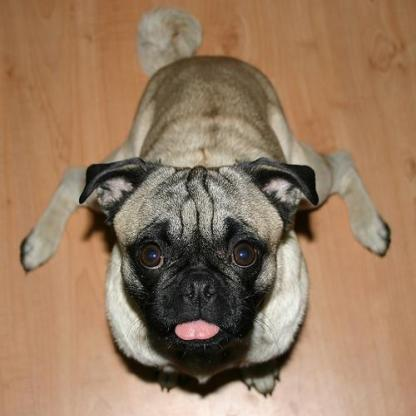pug: (20, 6, 389, 395)
